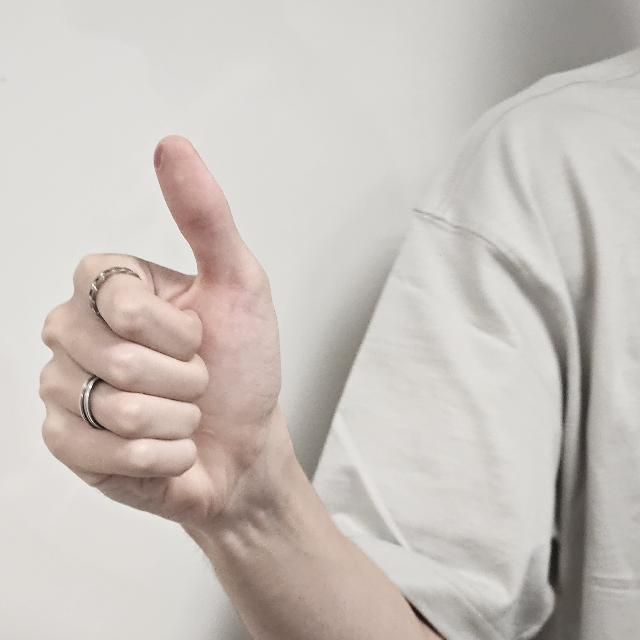Start: (39, 135, 297, 527)
